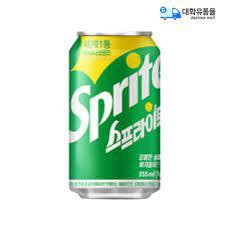sprite: (66, 28, 162, 206)
